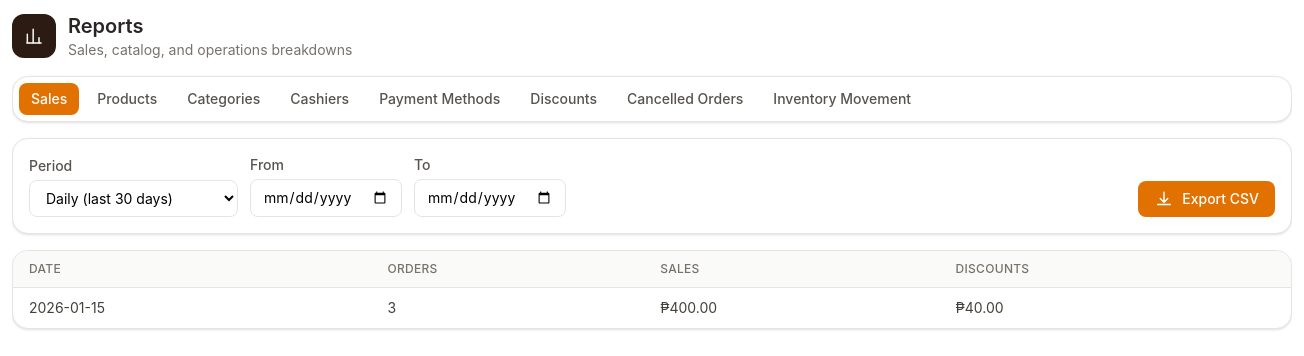
Test: ReportsPage — tab switching › resets to page 1 when switching tabs
The width and height of the screenshot is (1304, 356).
Expected: the text "2026-01-15" is shown, [13,288,371,328]
Click the button "Cancelled Orders": coordinates (685, 99) [615,83,755,115]
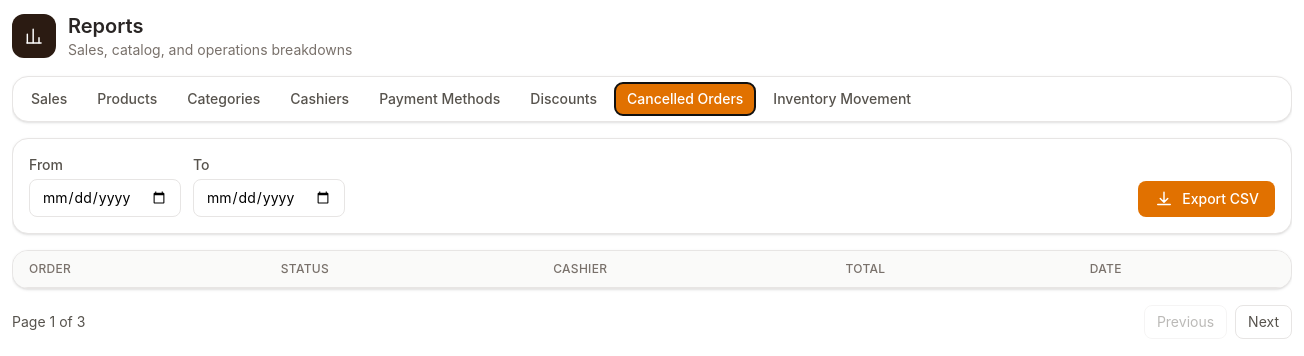
Now the text "Page 1 of 3" is shown, box [12,312,85,332]
